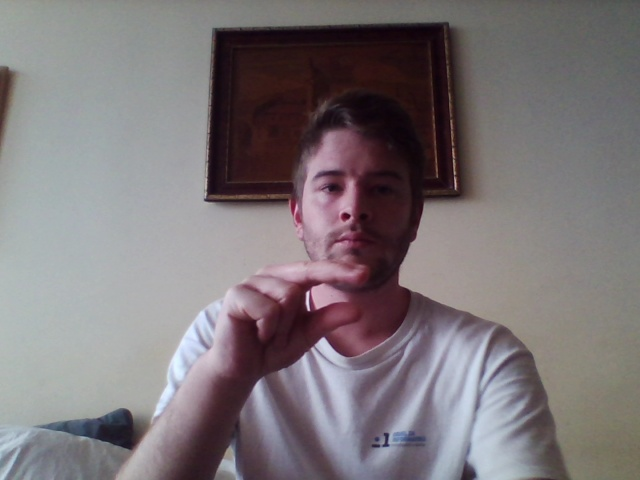ne: (214, 256, 374, 378)
